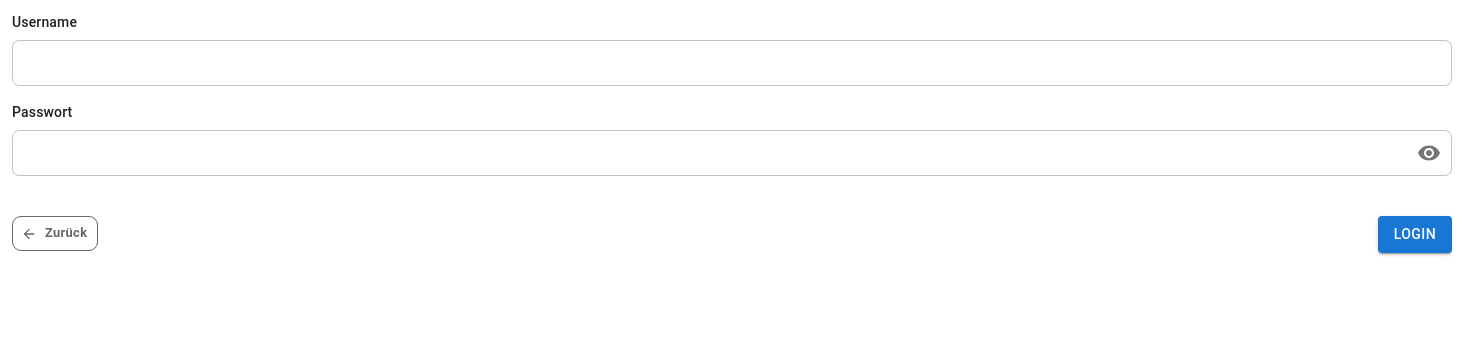
Scenario: shows error when password is missing
Type "testuser" into the field named "username" at (732, 63), box top-left (12, 45), bottom-right (1452, 81)
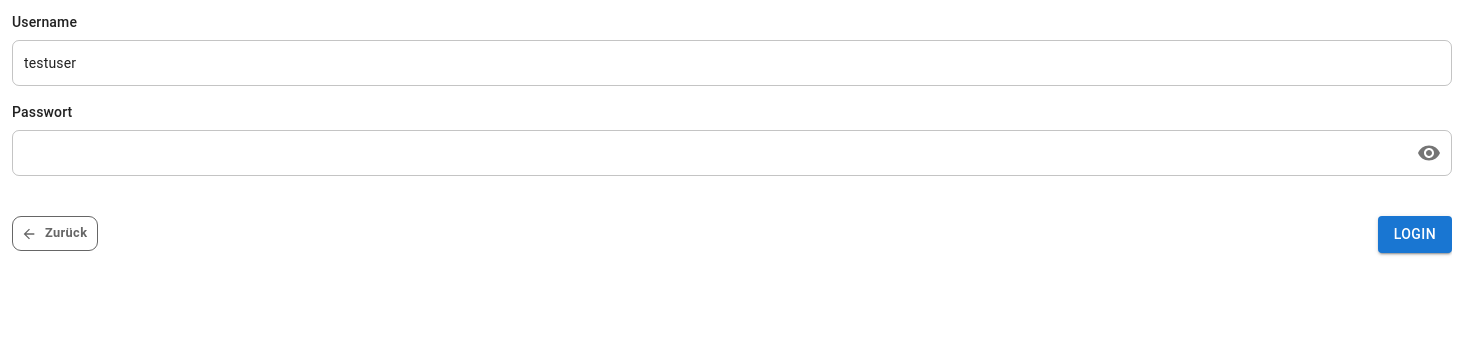
Click the button "Login" at (1415, 234), box top-left (1378, 216), bottom-right (1452, 252)
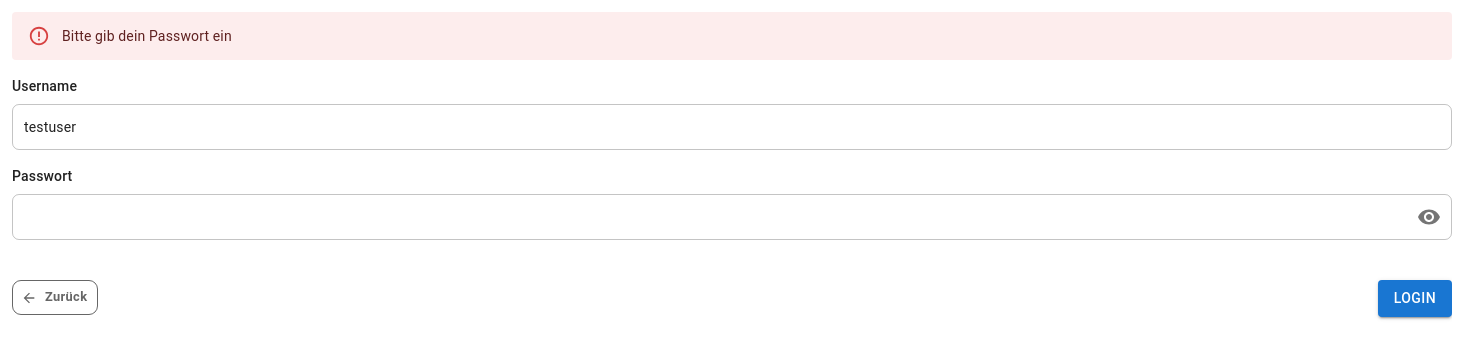
Check: the text "Bitte gib dein Passwort ein" is shown, box top-left (62, 28), bottom-right (232, 44)
